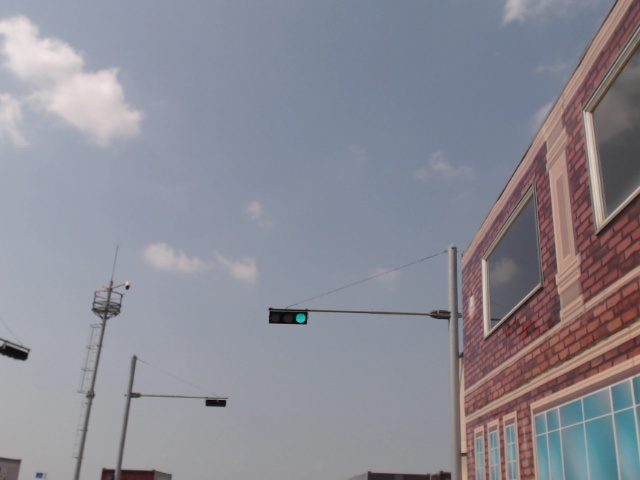green_3: (269, 310, 308, 325)
